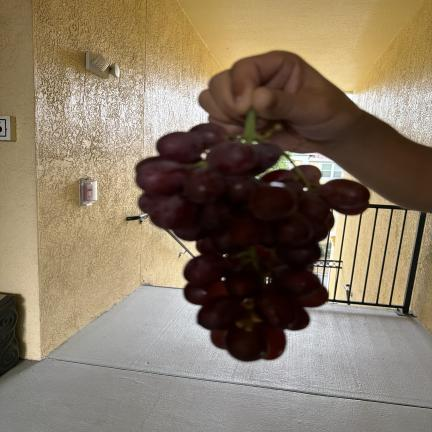grape_cluster: (136, 120, 369, 361)
